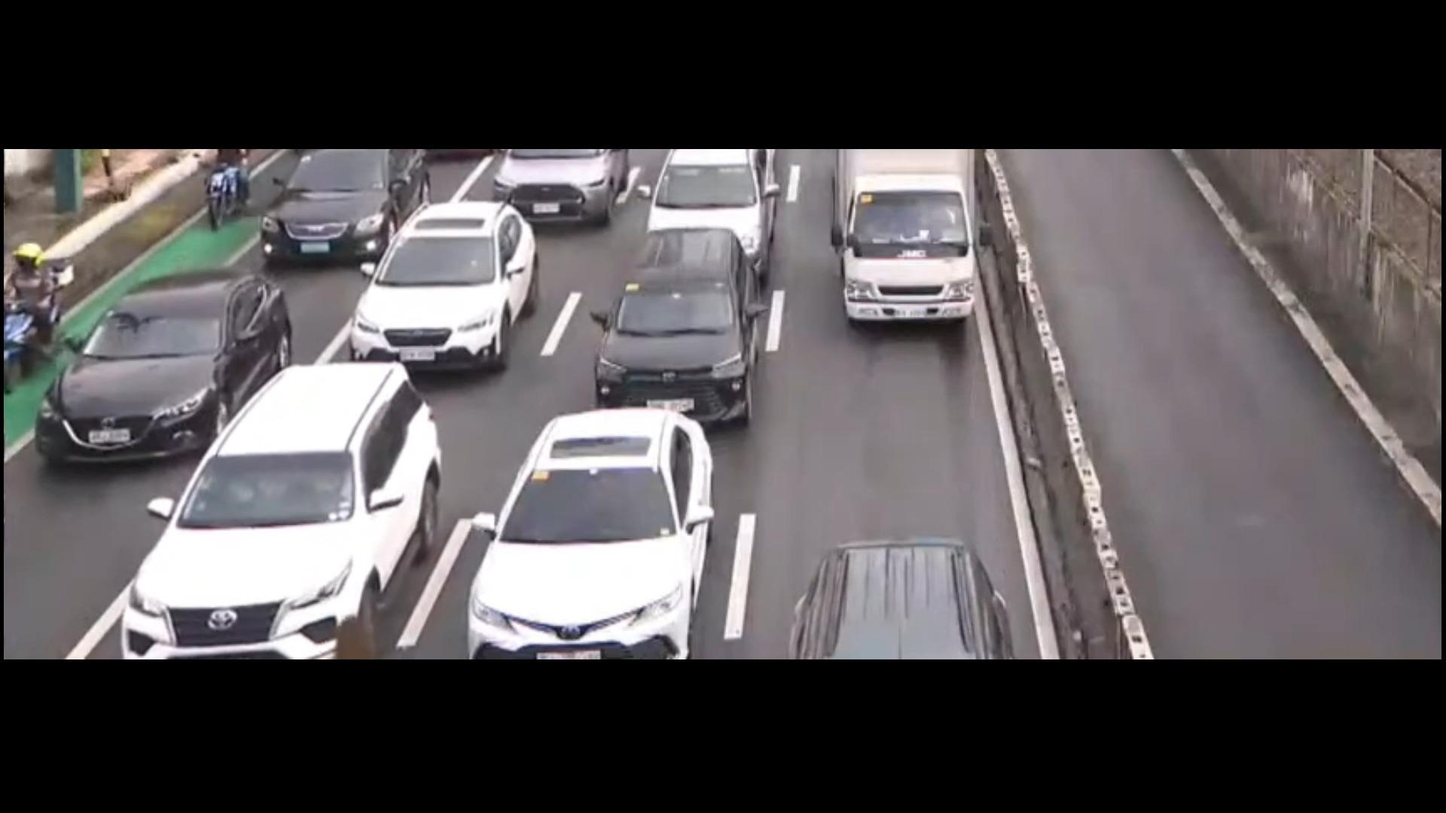Motorcycle: (0, 235, 68, 397), (187, 152, 260, 235)
SUV: (113, 362, 438, 659), (596, 229, 762, 419)
Sedan: (467, 408, 714, 660), (39, 255, 294, 464), (352, 201, 534, 374), (264, 149, 430, 265)
Truck: (828, 149, 982, 329)
